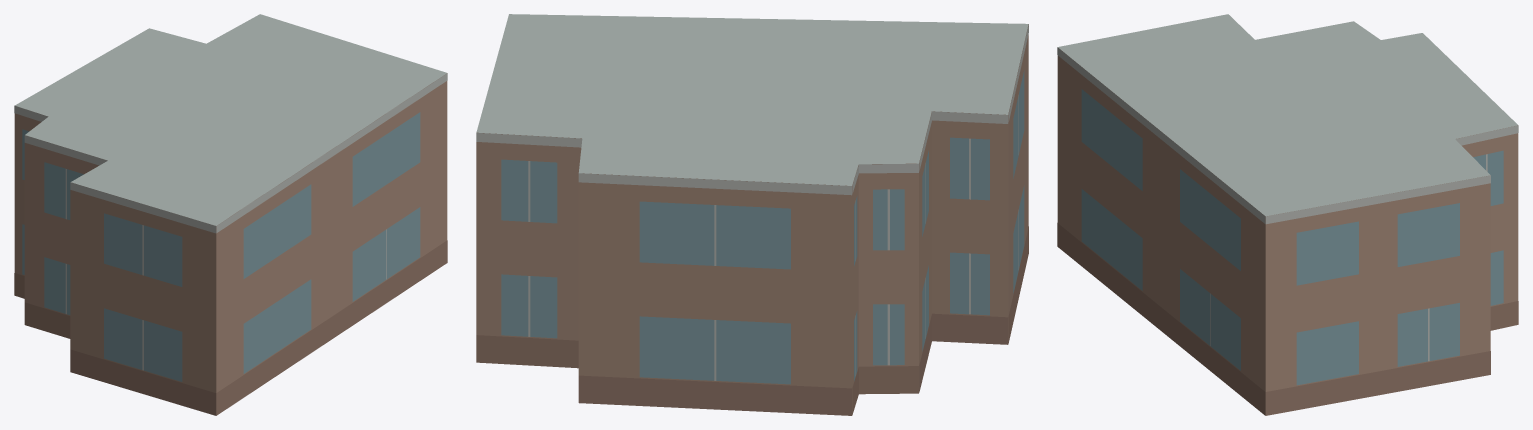
File: survey-upis-32768999.glb
The picture shows the model from 3 angles, left to right: view 1: azimuth 30°, elevation 25°; view 2: azimuth 150°, elevation 25°; view 3: azimuth 270°, elevation 25°; orthographic projection. The views are drawn at different scales.
Visible parts, largest first — view 1: survey-upis-32768999.tmp; view 2: survey-upis-32768999.tmp; view 3: survey-upis-32768999.tmp.
Boxes of the visible parts, x1=… form: survey-upis-32768999.tmp: x1=14, y1=14, x2=447, y2=415; survey-upis-32768999.tmp: x1=476, y1=14, x2=1028, y2=415; survey-upis-32768999.tmp: x1=1057, y1=14, x2=1518, y2=415.
Bounding box in the file's own units: 13.28 × 6.1 × 12.78.
